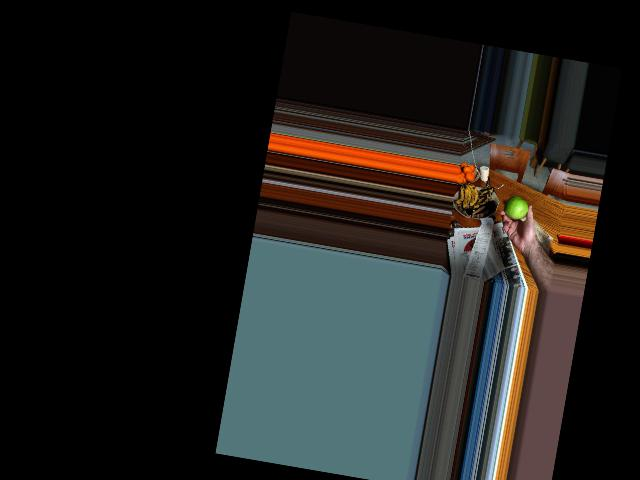apple: (500, 193, 530, 224)
